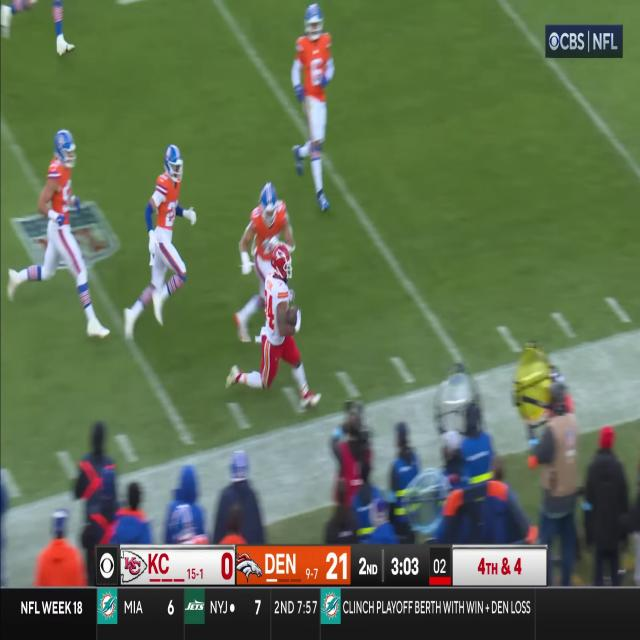Player: (27, 122, 94, 338), (289, 3, 336, 215), (140, 138, 188, 324), (256, 244, 302, 398), (242, 177, 290, 263)
